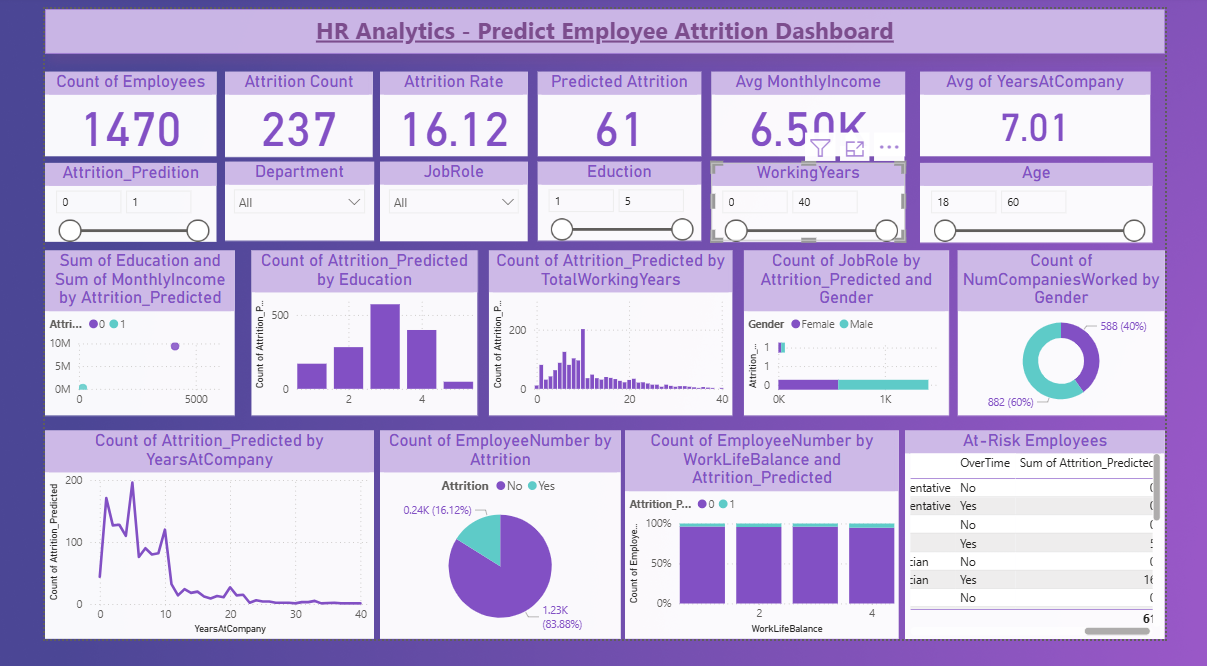

The dashboard page shown, as its layout file describes it:
{"tool":"powerbi","page":{"name":"Page 1","canvas":[1280,720],"ordinal":0},"visuals":[{"type":"card","title":"Count of Employees","fields":{"Values":["CountNonNull(WA_Fn-UseC_-HR-Employee-Attrition.EmployeeNumber)"]},"box":[0,71.4,195.7,97.1],"z":0},{"type":"card","title":"Attrition Rate","fields":{"Values":["WA_Fn-UseC_-HR-Employee-Attrition.Attrition Rate (%)"]},"box":[382.9,71.4,168.6,97.1],"z":1000},{"type":"card","title":"Attrition Count","fields":{"Values":["WA_Fn-UseC_-HR-Employee-Attrition.Attrition Count"]},"box":[206.2,71.2,168.8,97.5],"z":2000},{"type":"card","title":"Predicted Attrition ","fields":{"Values":["WA_Fn-UseC_-HR-Employee-Attrition.Predicted Attrition Count"]},"box":[562.9,71.4,187.1,97.1],"z":3000},{"type":"card","title":"Avg MonthlyIncome","fields":{"Values":["Avg(WA_Fn-UseC_-HR-Employee-Attrition.MonthlyIncome)"]},"box":[761.4,71.4,221.4,97.1],"z":4000},{"type":"pieChart","fields":{"Y":["CountNonNull(WA_Fn-UseC_-HR-Employee-Attrition.EmployeeNumber)"],"Category":["WA_Fn-UseC_-HR-Employee-Attrition.Attrition"]},"box":[383,481,275,238],"z":5000},{"type":"barChart","fields":{"Category":["WA_Fn-UseC_-HR-Employee-Attrition.Attrition_Predicted"],"Y":["CountNonNull(WA_Fn-UseC_-HR-Employee-Attrition.JobRole)"],"Series":["WA_Fn-UseC_-HR-Employee-Attrition.Gender"]},"box":[798.6,275.7,234.3,188.6],"z":6000},{"type":"hundredPercentStackedColumnChart","fields":{"Category":["WA_Fn-UseC_-HR-Employee-Attrition.WorkLifeBalance"],"Series":["WA_Fn-UseC_-HR-Employee-Attrition.Attrition_Predicted"],"Y":["CountNonNull(WA_Fn-UseC_-HR-Employee-Attrition.EmployeeNumber)"]},"box":[663,482,313,238],"z":7000},{"type":"tableEx","title":"At-Risk Employees","fields":{"Values":["Avg(WA_Fn-UseC_-HR-Employee-Attrition.Age)","Sum(WA_Fn-UseC_-HR-Employee-Attrition.MonthlyIncome)","WA_Fn-UseC_-HR-Employee-Attrition.JobRole","WA_Fn-UseC_-HR-Employee-Attrition.OverTime","Sum(WA_Fn-UseC_-HR-Employee-Attrition.Attrition_Predicted)"]},"box":[983,481,297,239],"z":8000},{"type":"card","title":"Avg of YearsAtCompany","fields":{"Values":["Avg(WA_Fn-UseC_-HR-Employee-Attrition.YearsAtCompany)"]},"box":[1000,71.4,262.9,97.1],"z":9000},{"type":"clusteredColumnChart","fields":{"Category":["WA_Fn-UseC_-HR-Employee-Attrition.Education"],"Y":["CountNonNull(WA_Fn-UseC_-HR-Employee-Attrition.Attrition_Predicted)"]},"box":[235.7,275.7,258.6,188.6],"z":10000},{"type":"donutChart","fields":{"Series":["WA_Fn-UseC_-HR-Employee-Attrition.Gender"],"Y":["CountNonNull(WA_Fn-UseC_-HR-Employee-Attrition.NumCompaniesWorked)"]},"box":[1042.9,275.7,237.1,188.6],"z":11000},{"type":"clusteredColumnChart","fields":{"Category":["WA_Fn-UseC_-HR-Employee-Attrition.TotalWorkingYears"],"Y":["CountNonNull(WA_Fn-UseC_-HR-Employee-Attrition.Attrition_Predicted)"]},"box":[507.1,275.7,278.6,188.6],"z":12000},{"type":"lineChart","fields":{"Category":["WA_Fn-UseC_-HR-Employee-Attrition.YearsAtCompany"],"Y":["CountNonNull(WA_Fn-UseC_-HR-Employee-Attrition.Attrition_Predicted)"]},"box":[0,481.4,375.7,238.6],"z":13000},{"type":"scatterChart","fields":{"X":["Sum(WA_Fn-UseC_-HR-Employee-Attrition.Education)"],"Y":["Sum(WA_Fn-UseC_-HR-Employee-Attrition.MonthlyIncome)"],"Series":["WA_Fn-UseC_-HR-Employee-Attrition.Attrition_Predicted"]},"box":[0,275.7,217.1,188.6],"z":14000},{"type":"textbox","box":[0,0,1280,51.2],"z":15000},{"type":"slicer","title":"Attrition_Predition","fields":{"Values":["WA_Fn-UseC_-HR-Employee-Attrition.Attrition_Predicted"]},"box":[0,175.7,195.7,90],"z":15001},{"type":"slicer","title":"Department","fields":{"Values":["WA_Fn-UseC_-HR-Employee-Attrition.Department"]},"box":[205.7,174.3,170,90],"z":15002},{"type":"slicer","title":"JobRole","fields":{"Values":["WA_Fn-UseC_-HR-Employee-Attrition.JobRole"]},"box":[382.9,174.3,168.6,91.4],"z":15003},{"type":"slicer","title":"Eduction","fields":{"Values":["WA_Fn-UseC_-HR-Employee-Attrition.Education"]},"box":[562.9,174.3,187.1,90],"z":15004},{"type":"slicer","title":"WorkingYears","fields":{"Values":["WA_Fn-UseC_-HR-Employee-Attrition.TotalWorkingYears"]},"box":[761.4,175.7,221.4,90],"z":15005},{"type":"slicer","title":"Age","fields":{"Values":["WA_Fn-UseC_-HR-Employee-Attrition.Age"]},"box":[1000,175.7,265.7,91.4],"z":15006}]}

Visuals, with their boxes in screenshot pixels (x1, y1, x2, y2):
"Count of Employees" card: box=[41, 66, 213, 151]
"Attrition Rate" card: box=[378, 66, 526, 151]
"Attrition Count" card: box=[222, 66, 371, 152]
"Predicted Attrition " card: box=[536, 66, 701, 151]
"Avg MonthlyIncome" card: box=[711, 66, 906, 151]
pieChart - CountNonNull(WA_Fn-UseC_-HR-Employee-Attrition.EmployeeNumber) x WA_Fn-UseC_-HR-Employee-Attrition.Attrition: box=[378, 427, 620, 636]
barChart - WA_Fn-UseC_-HR-Employee-Attrition.Attrition_Predicted x CountNonNull(WA_Fn-UseC_-HR-Employee-Attrition.JobRole): box=[744, 246, 950, 412]
hundredPercentStackedColumnChart - WA_Fn-UseC_-HR-Employee-Attrition.WorkLifeBalance x WA_Fn-UseC_-HR-Employee-Attrition.Attrition_Predicted: box=[625, 427, 900, 637]
"At-Risk Employees" tableEx: box=[906, 427, 1168, 637]
"Avg of YearsAtCompany" card: box=[921, 66, 1153, 151]
clusteredColumnChart - WA_Fn-UseC_-HR-Employee-Attrition.Education x CountNonNull(WA_Fn-UseC_-HR-Employee-Attrition.Attrition_Predicted): box=[248, 246, 476, 412]
donutChart - WA_Fn-UseC_-HR-Employee-Attrition.Gender x CountNonNull(WA_Fn-UseC_-HR-Employee-Attrition.NumCompaniesWorked): box=[959, 246, 1168, 412]
clusteredColumnChart - WA_Fn-UseC_-HR-Employee-Attrition.TotalWorkingYears x CountNonNull(WA_Fn-UseC_-HR-Employee-Attrition.Attrition_Predicted): box=[487, 246, 733, 412]
lineChart - WA_Fn-UseC_-HR-Employee-Attrition.YearsAtCompany x CountNonNull(WA_Fn-UseC_-HR-Employee-Attrition.Attrition_Predicted): box=[41, 427, 372, 637]
scatterChart - Sum(WA_Fn-UseC_-HR-Employee-Attrition.Education) x Sum(WA_Fn-UseC_-HR-Employee-Attrition.MonthlyIncome): box=[41, 246, 232, 412]
textbox: box=[41, 3, 1168, 48]
"Attrition_Predition" slicer: box=[41, 158, 213, 237]
"Department" slicer: box=[222, 157, 372, 236]
"JobRole" slicer: box=[378, 157, 526, 237]
"Eduction" slicer: box=[536, 157, 701, 236]
"WorkingYears" slicer: box=[711, 158, 906, 237]
"Age" slicer: box=[921, 158, 1155, 238]
